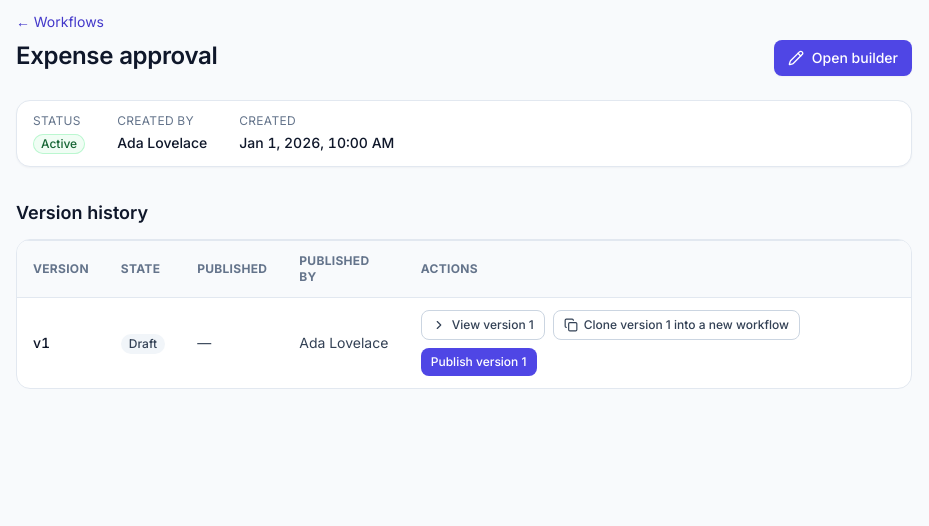
Scenario: WorkflowVersionHistory › lists every structural violation when a publish is refused
Click the button "Publish version 1" at x=479, y=362, box [421, 348, 537, 376]
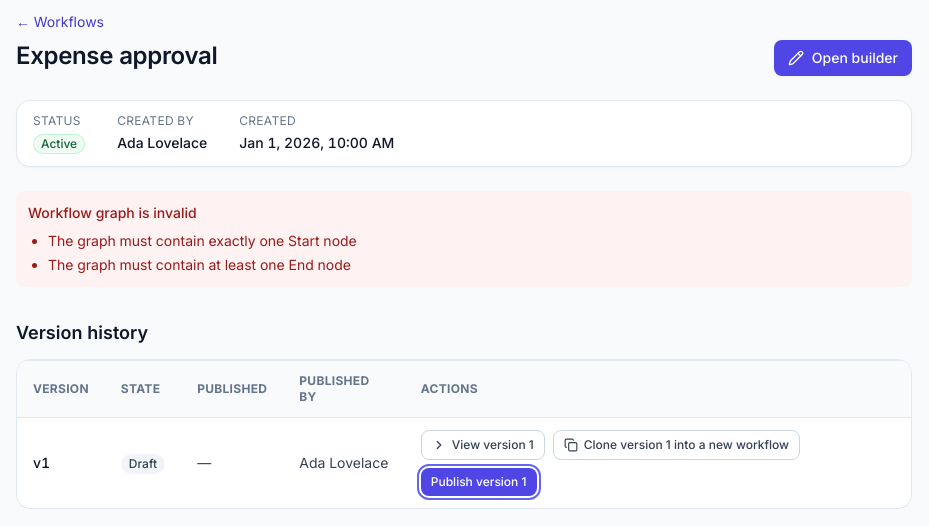
expect the message shows "Workflow graph is invalid": met, box [28, 204, 197, 221]
expect the list items read "The graph must contain exactly one Start node", "The graph must contain at least one End node", in this order: met, box [48, 232, 357, 249]; [48, 256, 351, 273]
